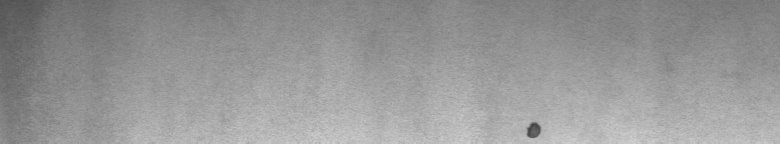fi: (520, 114, 547, 136)
